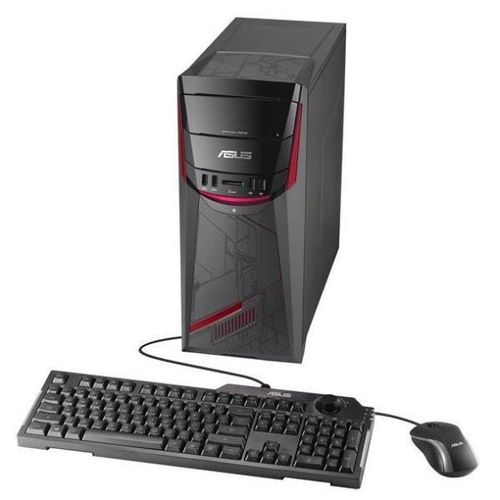Teclado: (15, 367, 375, 490)
